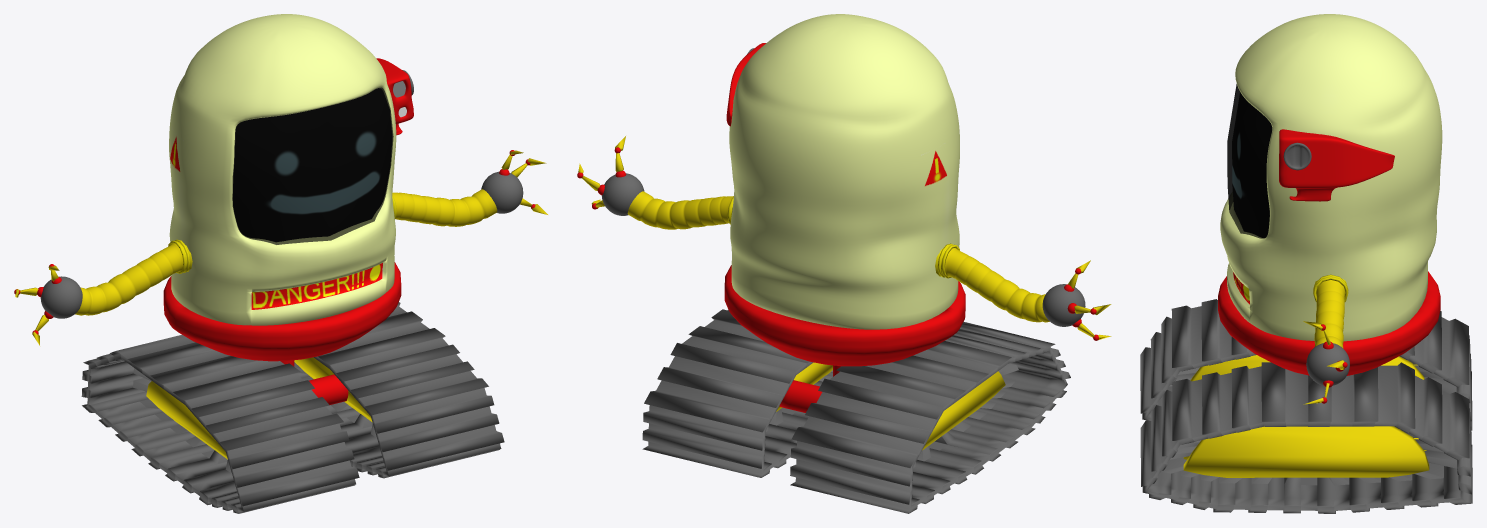
Rendered from robot_compress.glb.
3 renders of one model, left to right at view 1: azimuth 30°, elevation 25°; view 2: azimuth 150°, elevation 25°; view 3: azimuth 270°, elevation 25°, orthographic. The views are drawn at different scales.
Visible parts, largest first — view 1: RODAS, HEAD, Plane.001, Plane.002, PERNAS, object 1, object 15, SUPORTE RODAS, PULSO.001, PULSO, LIGHT GUIDE; view 2: HEAD, RODAS, PERNAS, object 1, object 15, SUPORTE RODAS, PULSO.001, PULSO; view 3: HEAD, RODAS, SUPORTE RODAS, PERNAS, Plane.001, LIGHT GUIDE, Plane.002, object 15, PULSO, parafuso.
Boxes of the visible parts, bbox=[...] form: RODAS: bbox=[81, 302, 504, 513]; HEAD: bbox=[169, 14, 396, 325]; Plane.001: bbox=[232, 87, 393, 244]; Plane.002: bbox=[233, 88, 391, 241]; PERNAS: bbox=[163, 262, 401, 404]; object 1: bbox=[75, 243, 182, 315]; object 15: bbox=[392, 189, 497, 226]; SUPORTE RODAS: bbox=[146, 357, 372, 459]; PULSO.001: bbox=[40, 276, 82, 318]; PULSO: bbox=[481, 171, 523, 213]; LIGHT GUIDE: bbox=[376, 58, 413, 135]; HEAD: bbox=[729, 14, 959, 329]; RODAS: bbox=[642, 309, 1070, 513]; PERNAS: bbox=[724, 265, 965, 412]; object 1: bbox=[945, 248, 1049, 322]; object 15: bbox=[627, 191, 733, 229]; SUPORTE RODAS: bbox=[776, 362, 1005, 450]; PULSO.001: bbox=[1042, 284, 1085, 326]; PULSO: bbox=[601, 173, 644, 215]; HEAD: bbox=[1220, 14, 1442, 341]; RODAS: bbox=[1140, 299, 1472, 513]; SUPORTE RODAS: bbox=[1183, 355, 1429, 477]; PERNAS: bbox=[1218, 271, 1440, 375]; Plane.001: bbox=[1227, 84, 1272, 238]; LIGHT GUIDE: bbox=[1279, 129, 1394, 201]; Plane.002: bbox=[1232, 92, 1271, 237]; object 15: bbox=[1314, 280, 1345, 348]; PULSO: bbox=[1306, 343, 1349, 385]; parafuso: bbox=[1283, 142, 1311, 170].
Size of the model in its own units: 374 by 278 by 198.
9 materials, 2 textured.
